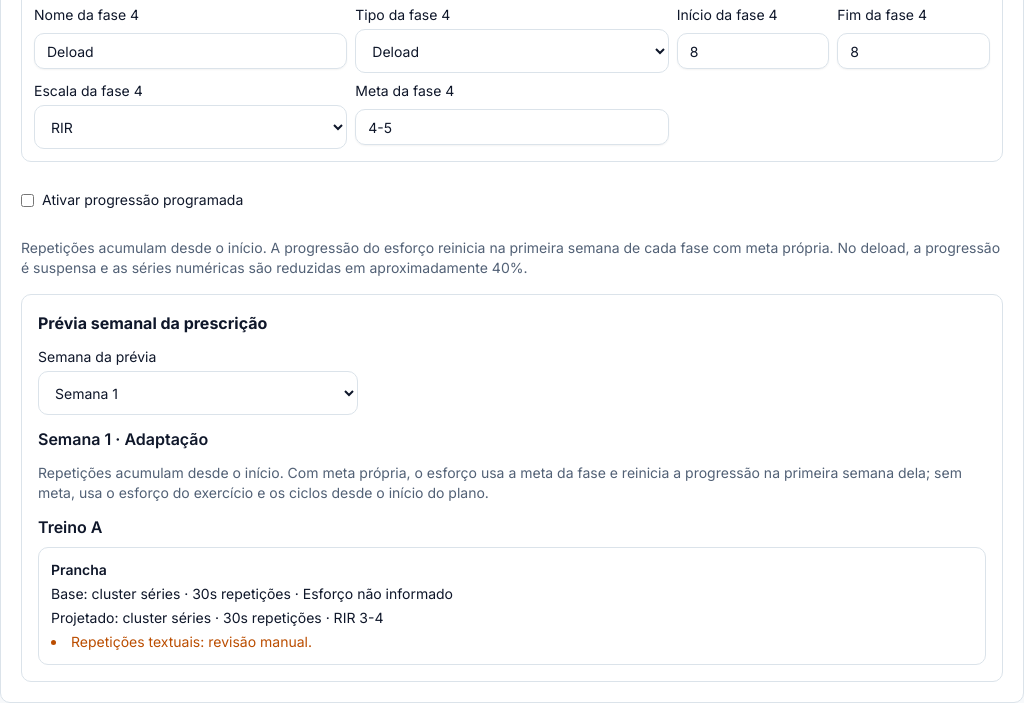
Test: configurador de periodização › preserva prescrições textuais com avisos de revisão manual e aceita esforço vazio
(page scrolled)
Step 1. Select "Semana 8" in the dropdown labelled "Semana da prévia" → (198, 393), box 38,371 -> 358,415
(page scrolled)
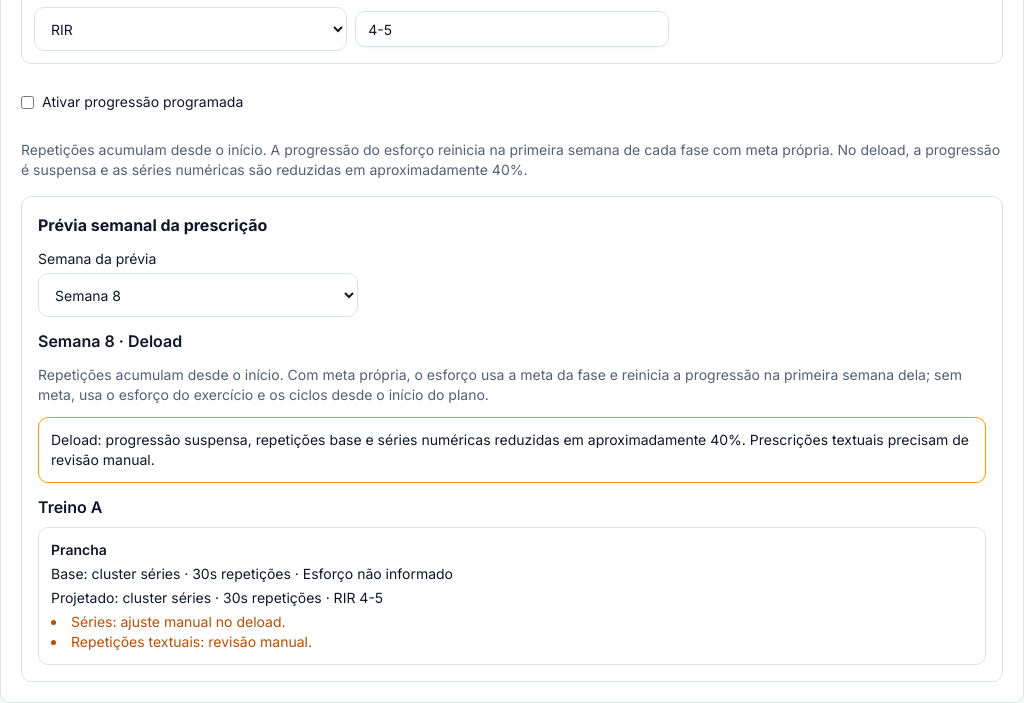
Expected: the list item "Repetições textuais: revisão manual." is shown, 71,633 -> 312,650
Result: the text "Projetado: cluster séries · 30s repetições · RIR 4-5" is shown at 51,589 -> 383,606
Result: the list item "Séries: ajuste manual no deload." is shown at 71,613 -> 286,630
